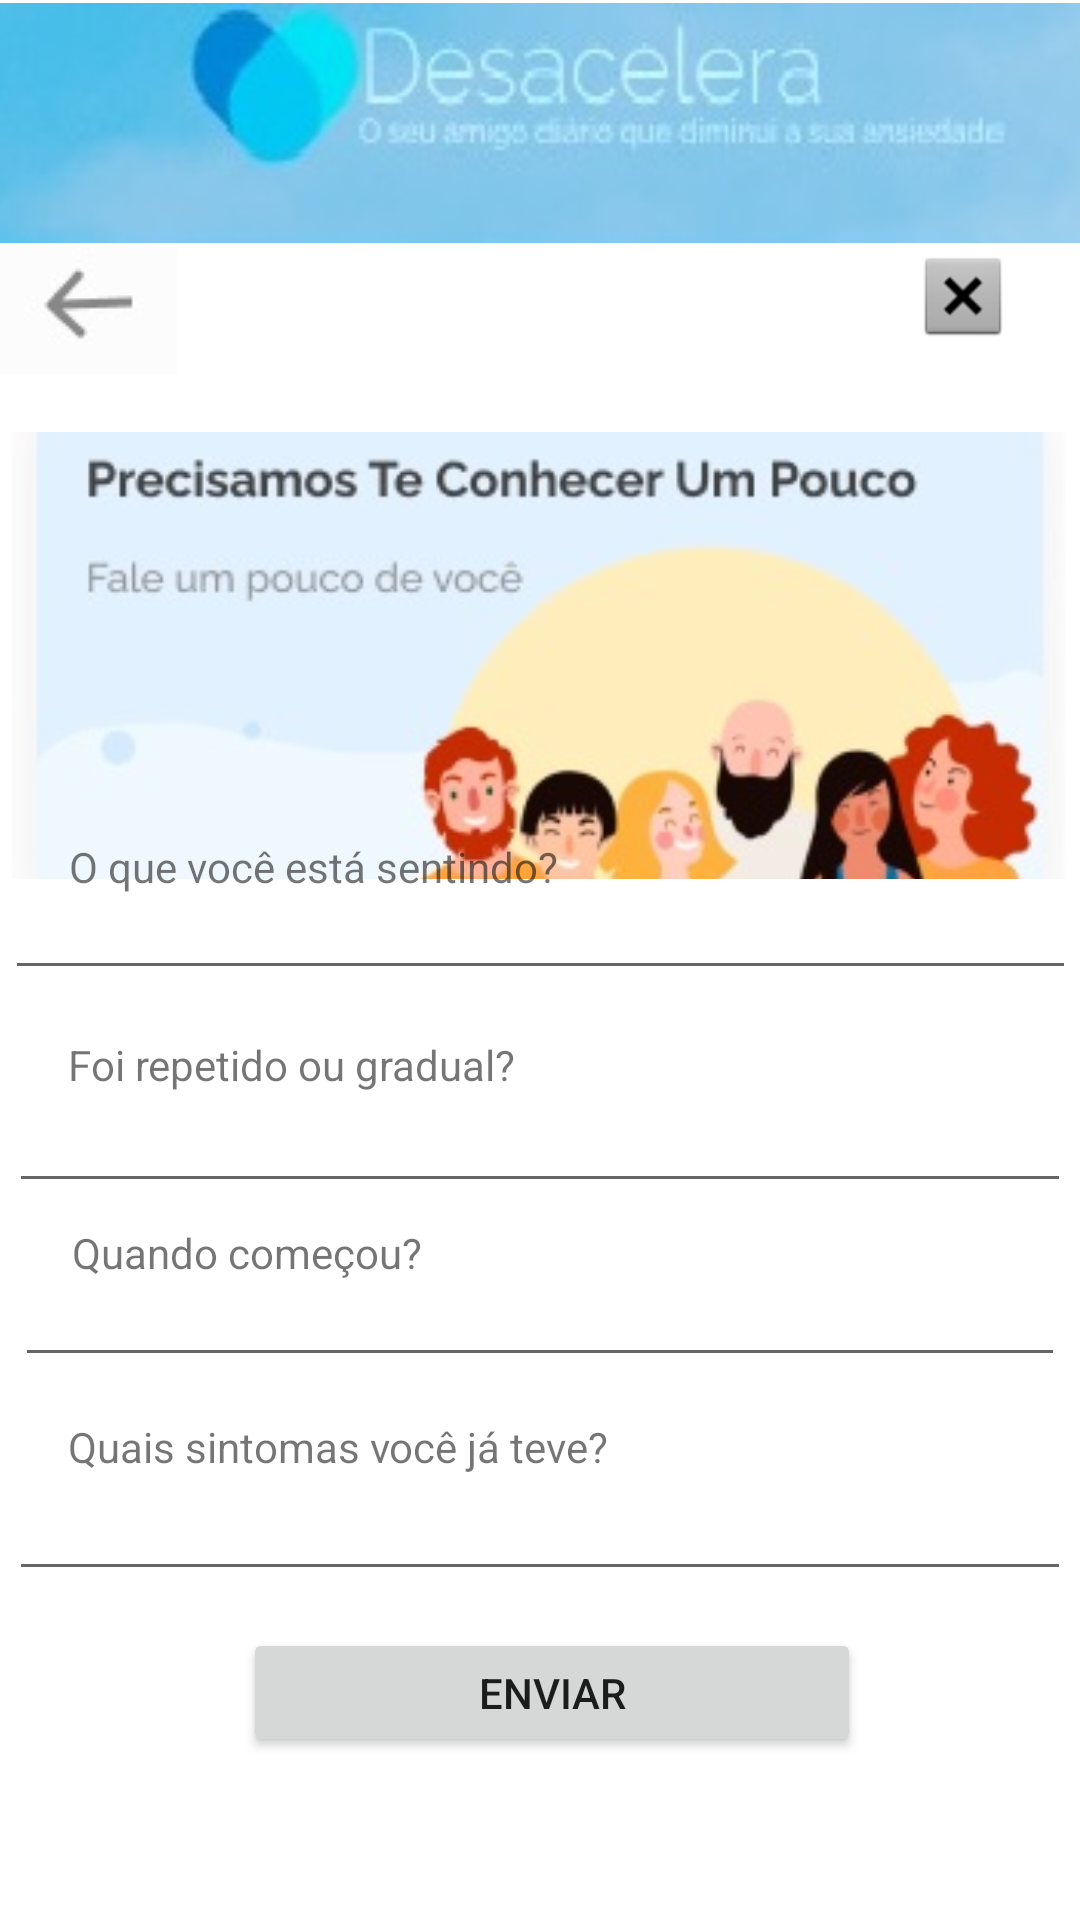

Named icons in this screenshot (1080w x 1920h) and their bounding boxes, (x1, y1, x2, y2):
fig voltar: (45, 270, 133, 339)
